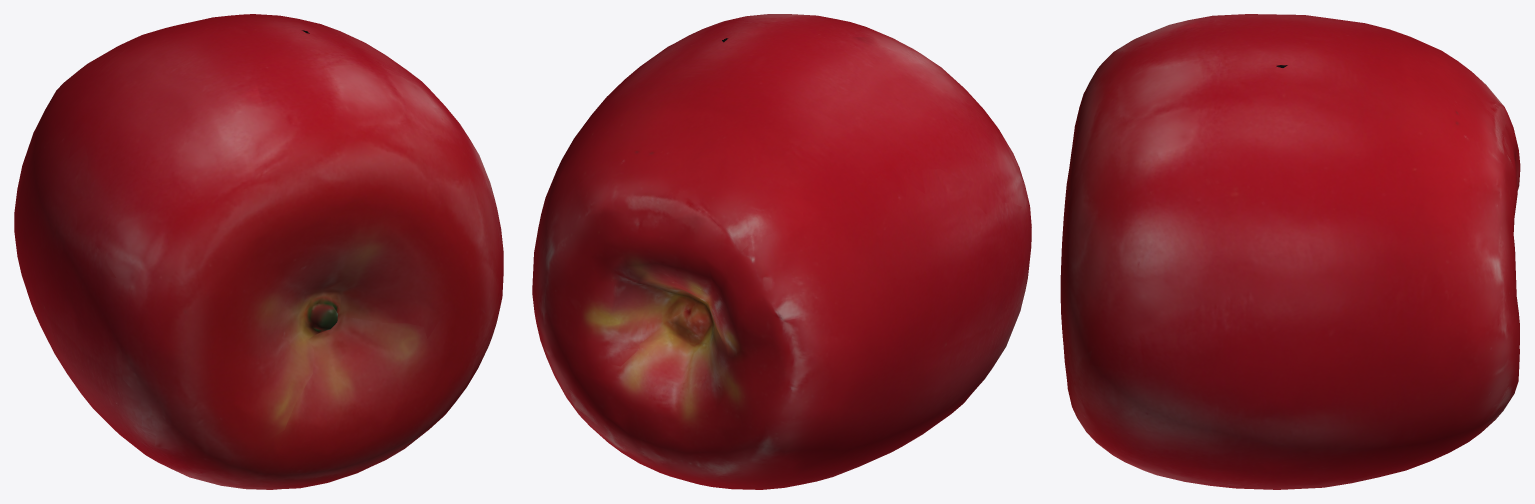
File: apple.glb
The picture shows the model from 3 angles, left to right: view 1: azimuth 30°, elevation 25°; view 2: azimuth 150°, elevation 25°; view 3: azimuth 270°, elevation 25°; orthographic projection. The views are drawn at different scales.
Visible parts, largest first — view 1: textured.026; view 2: textured.026; view 3: textured.026.
Boxes of the visible parts, x1=… form: textured.026: x1=14, y1=14, x2=503, y2=489; textured.026: x1=532, y1=14, x2=1031, y2=489; textured.026: x1=1060, y1=14, x2=1520, y2=489.
Bounding box in the file's own units: 0.0754 × 0.0748 × 0.0719.
1 material, 1 textured.
